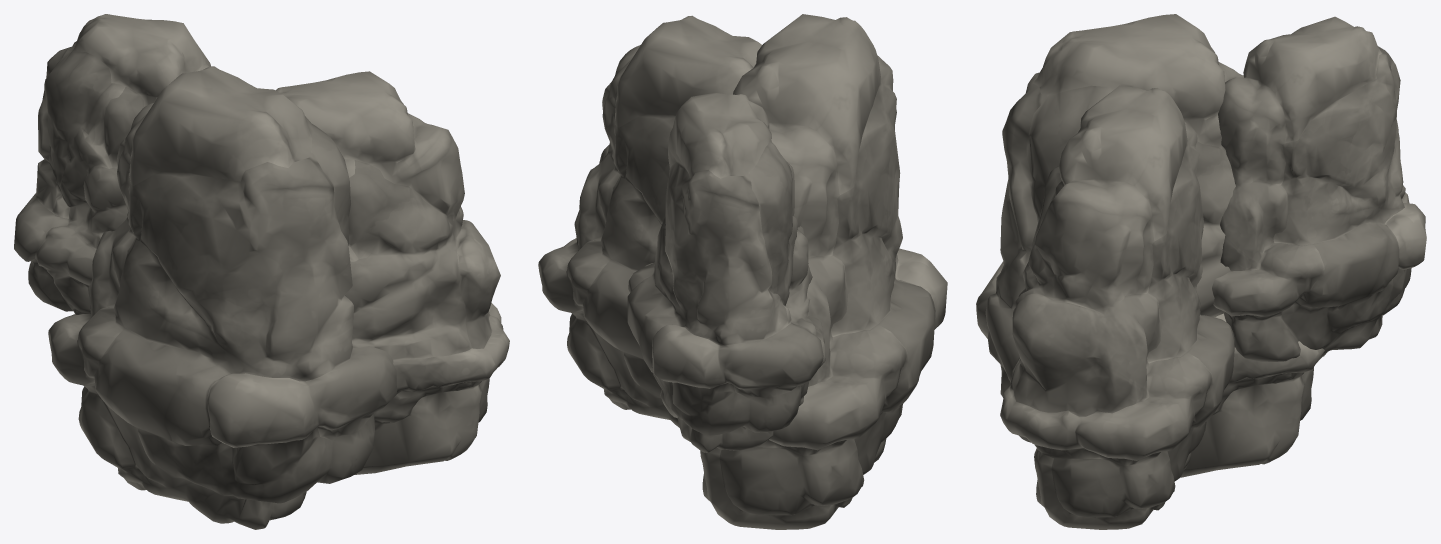
The model's file is cell_x-4_z2_render.gltf.
3 renders of one model, left to right at view 1: azimuth 30°, elevation 25°; view 2: azimuth 150°, elevation 25°; view 3: azimuth 270°, elevation 25°, orthographic. The views are drawn at different scales.
Parts seen in each view (by area): view 1: cell_x-4_z2; view 2: cell_x-4_z2; view 3: cell_x-4_z2.
Part boxes in pixels (x1,y1,x2,y2): cell_x-4_z2: (14, 14, 509, 529); cell_x-4_z2: (538, 14, 947, 529); cell_x-4_z2: (976, 14, 1426, 529).
Size of the model in its own units: 23.83 by 25.79 by 24.38.
1 material, 1 textured.
